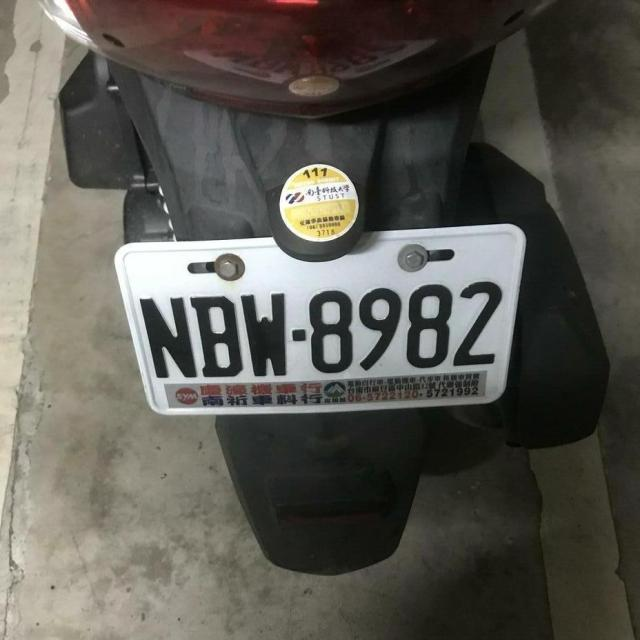W: (110, 216, 533, 429)
